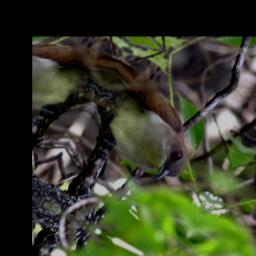Cuckoo: (71, 60, 222, 190)
